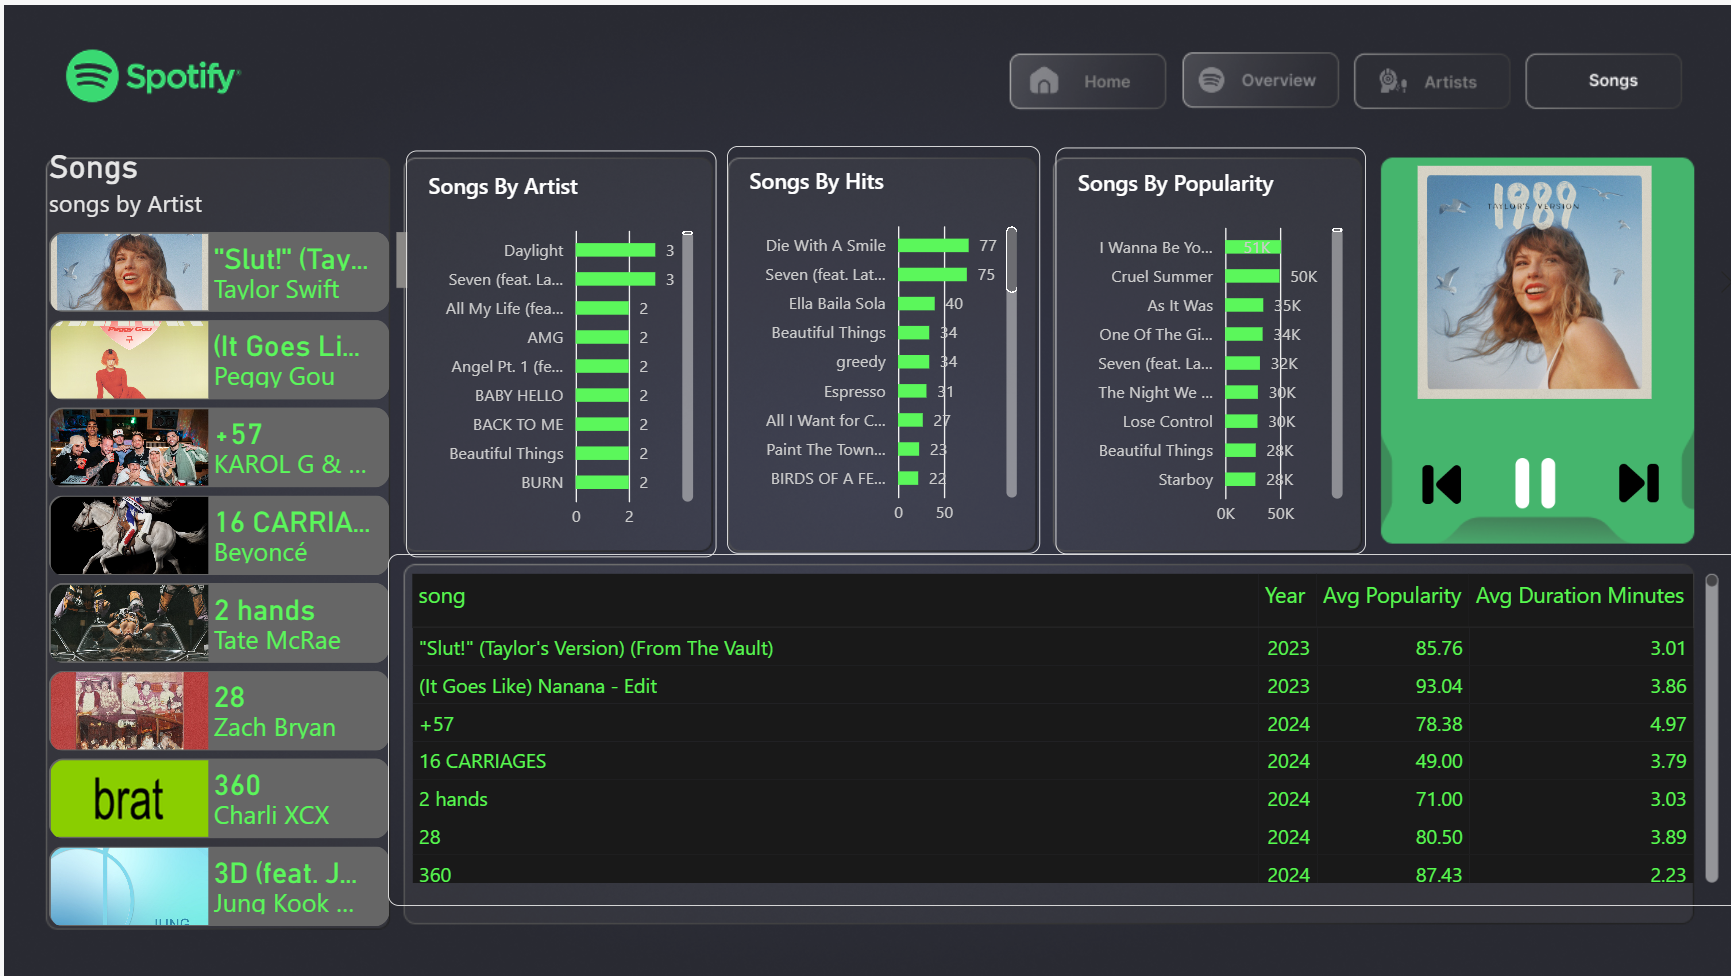

The page's visual inventory and layout, read from the dashboard file:
{"tool":"powerbi","page":{"name":"Songs","canvas":[1920,1080],"ordinal":3},"visuals":[{"type":"actionButton","box":[1067.1,214.8,114.3,40],"z":0},{"type":"actionButton","box":[1192.9,214.8,114.3,40],"z":1000},{"type":"actionButton","box":[1320,214.8,114.3,40],"z":2000},{"type":"actionButton","box":[1445.7,214.8,114.3,40],"z":3000},{"type":"advancedSlicerVisual","title":"Songs","fields":{"Values":["Top-50-World.song"]},"box":[1301.4,295.7,305.7,175.7],"z":4000},{"type":"shape","box":[1338.6,295.7,231.4,278.6],"z":5000},{"type":"advancedSlicerVisual","title":"Songs","fields":{"Values":["Top-50-World.song"]},"box":[352.9,282.9,265.7,578.6],"z":9000},{"type":"image","box":[1511.4,515.7,40,32.9],"z":10000},{"type":"image","box":[1367.1,517.1,37.1,32.9],"z":11000},{"type":"image","box":[1420,512.9,68.6,37.1],"z":12000},{"type":"clusteredBarChart","title":"Songs By Hits","fields":{"Category":["Top-50-World.song"],"Y":["_Measure.Position1 Hits per Artist"]},"box":[855.4,282.1,232.3,301.7],"z":12002},{"type":"clusteredBarChart","title":"Songs By Popularity","fields":{"Category":["Top-50-World.song"],"Y":["Sum(Top-50-World.popularity)"]},"box":[1098.6,282.9,230,301.4],"z":12003},{"type":"tableEx","fields":{"Values":["Top-50-World.song","Top-50-World.release_date.Variation.Date Hierarchy.Year","_Measure.Avg Popularity","_Measure.Avg Duration Minutes"]},"box":[604.3,584,1002.4,260.8],"z":12004},{"type":"clusteredBarChart","title":"Songs By Artist","fields":{"Category":["Top-50-World.song"],"Y":["_Measure.Distinct Artists"]},"box":[618.3,285.7,230,301.4],"z":12005}]}

Visuals, with their boxes in screenshot pixels (x1, y1, x2, y2), scaled from the page's 1920x1080 canvas onto the 1731x976 screenshot:
actionButton: rect(962, 194, 1065, 230)
actionButton: rect(1075, 194, 1179, 230)
actionButton: rect(1190, 194, 1293, 230)
actionButton: rect(1303, 194, 1406, 230)
"Songs" advancedSlicerVisual: rect(1173, 267, 1449, 426)
shape: rect(1207, 267, 1415, 519)
"Songs" advancedSlicerVisual: rect(318, 256, 558, 779)
image: rect(1363, 466, 1399, 496)
image: rect(1233, 467, 1266, 497)
image: rect(1280, 464, 1342, 497)
"Songs By Hits" clusteredBarChart: rect(771, 255, 981, 528)
"Songs By Popularity" clusteredBarChart: rect(990, 256, 1198, 528)
tableEx - Top-50-World.song x Top-50-World.release_date.Variation.Date Hierarchy.Year: rect(545, 528, 1449, 763)
"Songs By Artist" clusteredBarChart: rect(557, 258, 765, 531)
